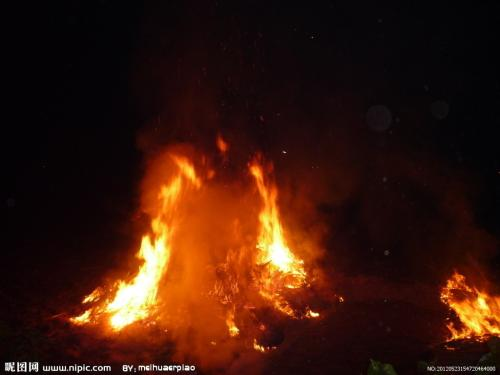fire: (244, 175, 307, 283), (106, 230, 170, 321)
